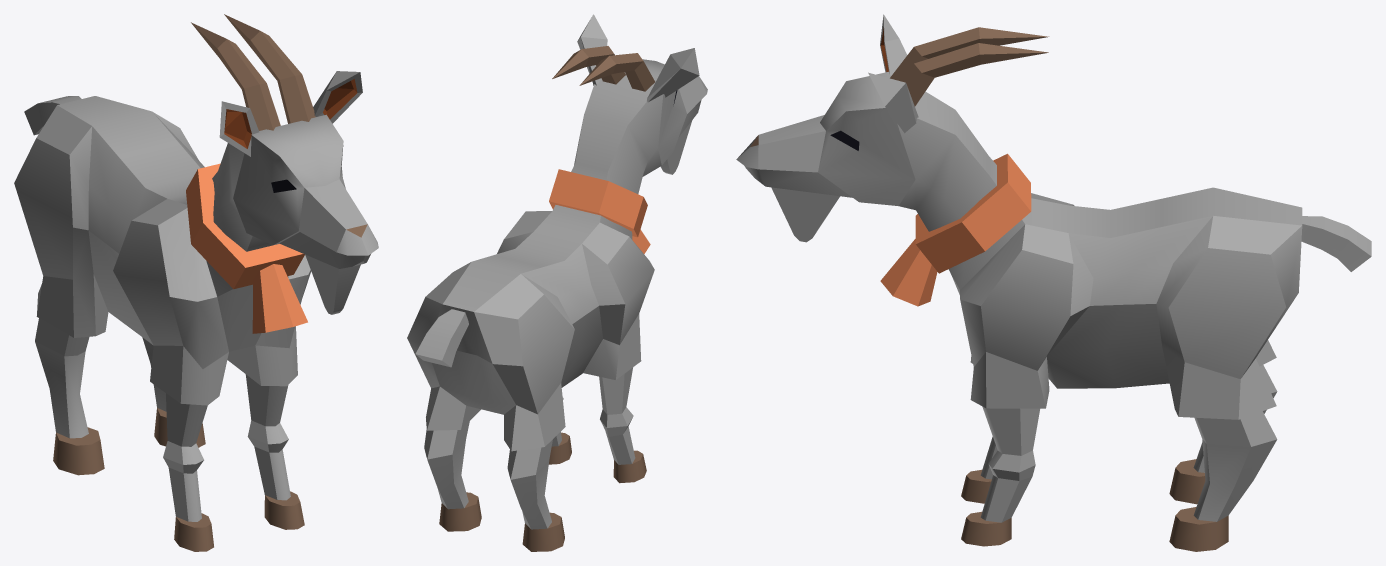
The model's file is Goat.fbx.
3 renders of one model, left to right at view 1: azimuth 30°, elevation 25°; view 2: azimuth 150°, elevation 25°; view 3: azimuth 270°, elevation 25°, orthographic. The views are drawn at different scales.
Parts seen in each view (by area): view 1: Goat; view 2: Goat; view 3: Goat.
Boxes of the visible parts, x1,y1,x2,y2 form: Goat: (14,14,378,551); Goat: (407,14,707,551); Goat: (736,14,1371,551).
Size of the model in its own units: 14.08 by 40.47 by 48.25.
